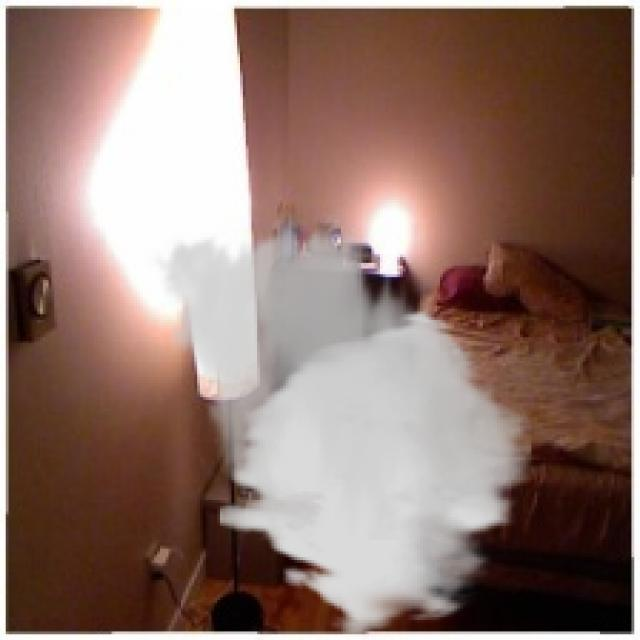Smoke: (146, 212, 532, 637)
